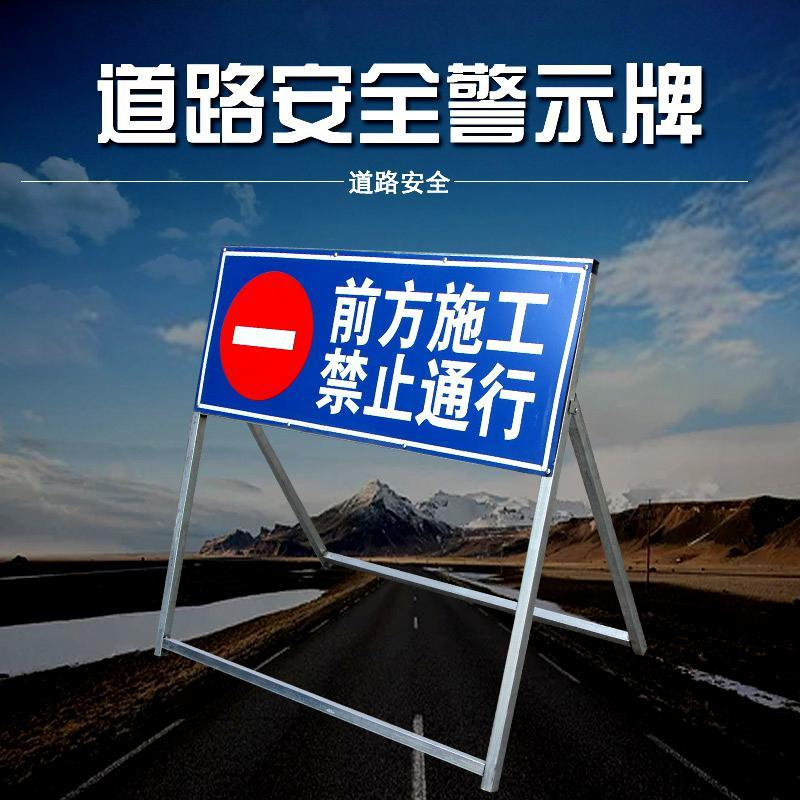sign: (211, 261, 564, 451)
